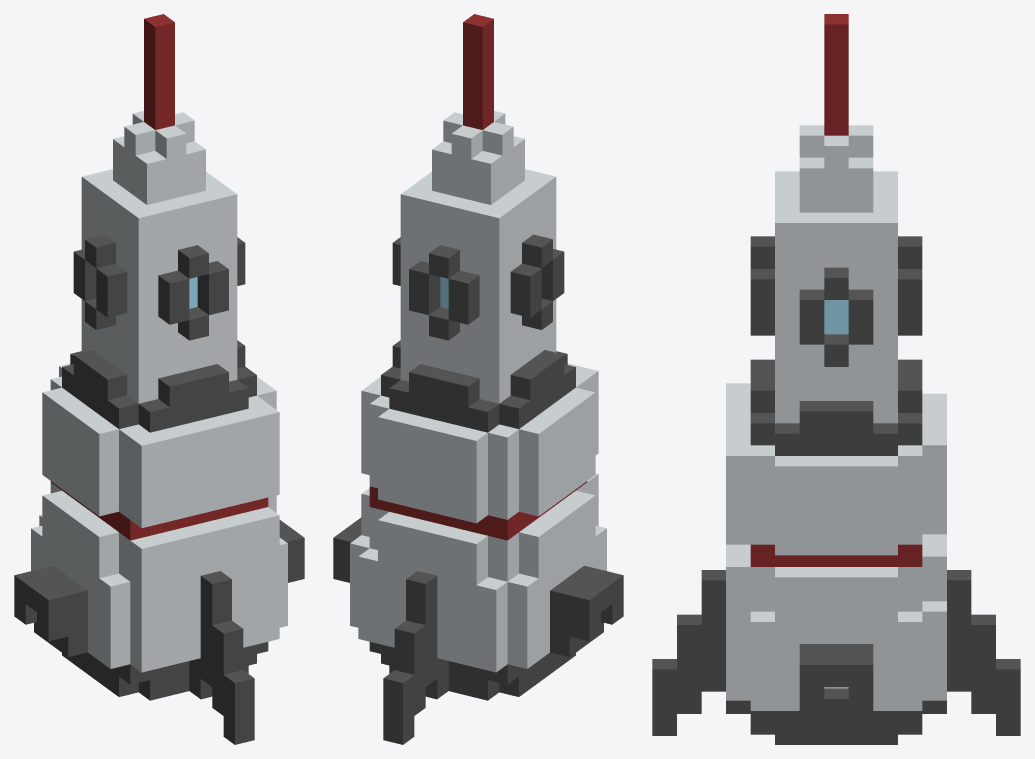
Rendered from RocketModel.fbx.
3 views of the same model, side by side, from view 1: azimuth 30°, elevation 25°; view 2: azimuth 150°, elevation 25°; view 3: azimuth 270°, elevation 25° (orthographic). The views are drawn at different scales.
Visible parts, largest first — view 1: Rocket; view 2: Rocket; view 3: Rocket.
Boxes of the visible parts, x1,y1,x2,y2 form: Rocket: [14, 14, 304, 744]; Rocket: [333, 14, 623, 744]; Rocket: [652, 14, 1020, 744].
Size of the model in its own units: 13 by 32 by 15.
1 material, 1 textured.
